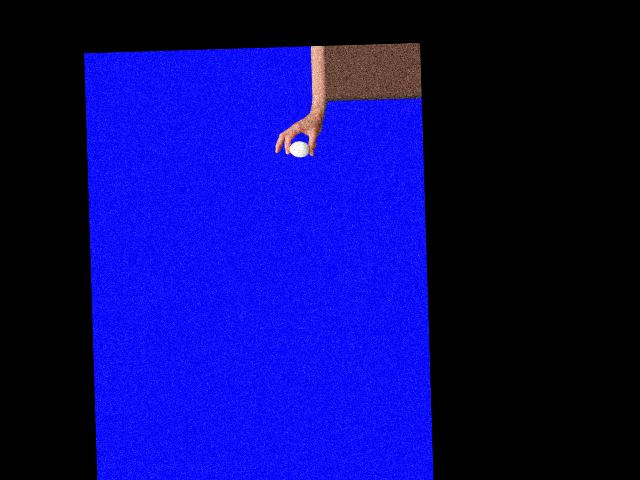egg: (289, 141, 310, 158)
